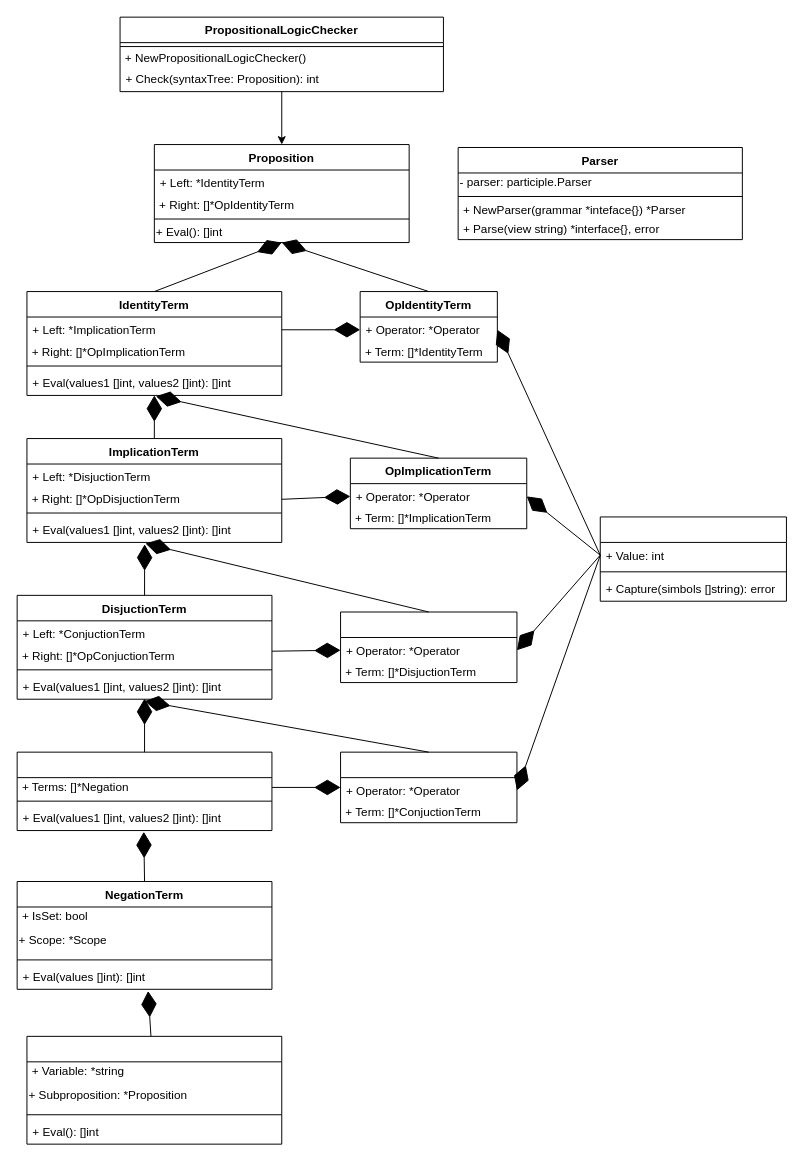
This 804x1164 diagram has some shape labels left out. The box of each missing label's shape, as (x1, y1, x2, y2) in pixels:
ConjuctionTerm: (16, 751, 272, 831)
OpConjunctionTerm: (340, 751, 517, 823)
OpDisjunctionTerm: (340, 611, 517, 683)
Operator: (599, 516, 786, 601)
Scope: (26, 1035, 282, 1144)
